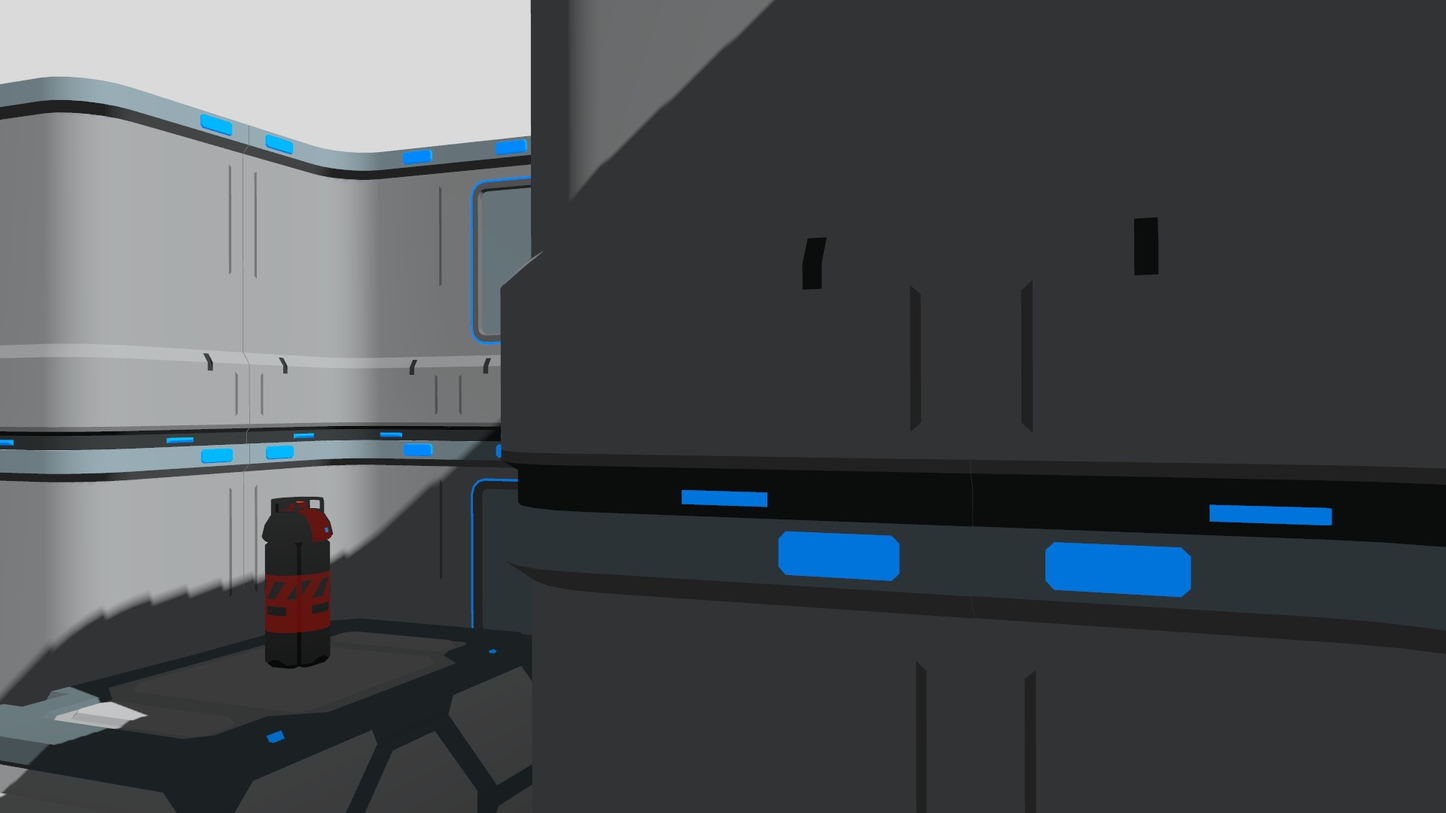red_barrel: (255, 490, 338, 671)
